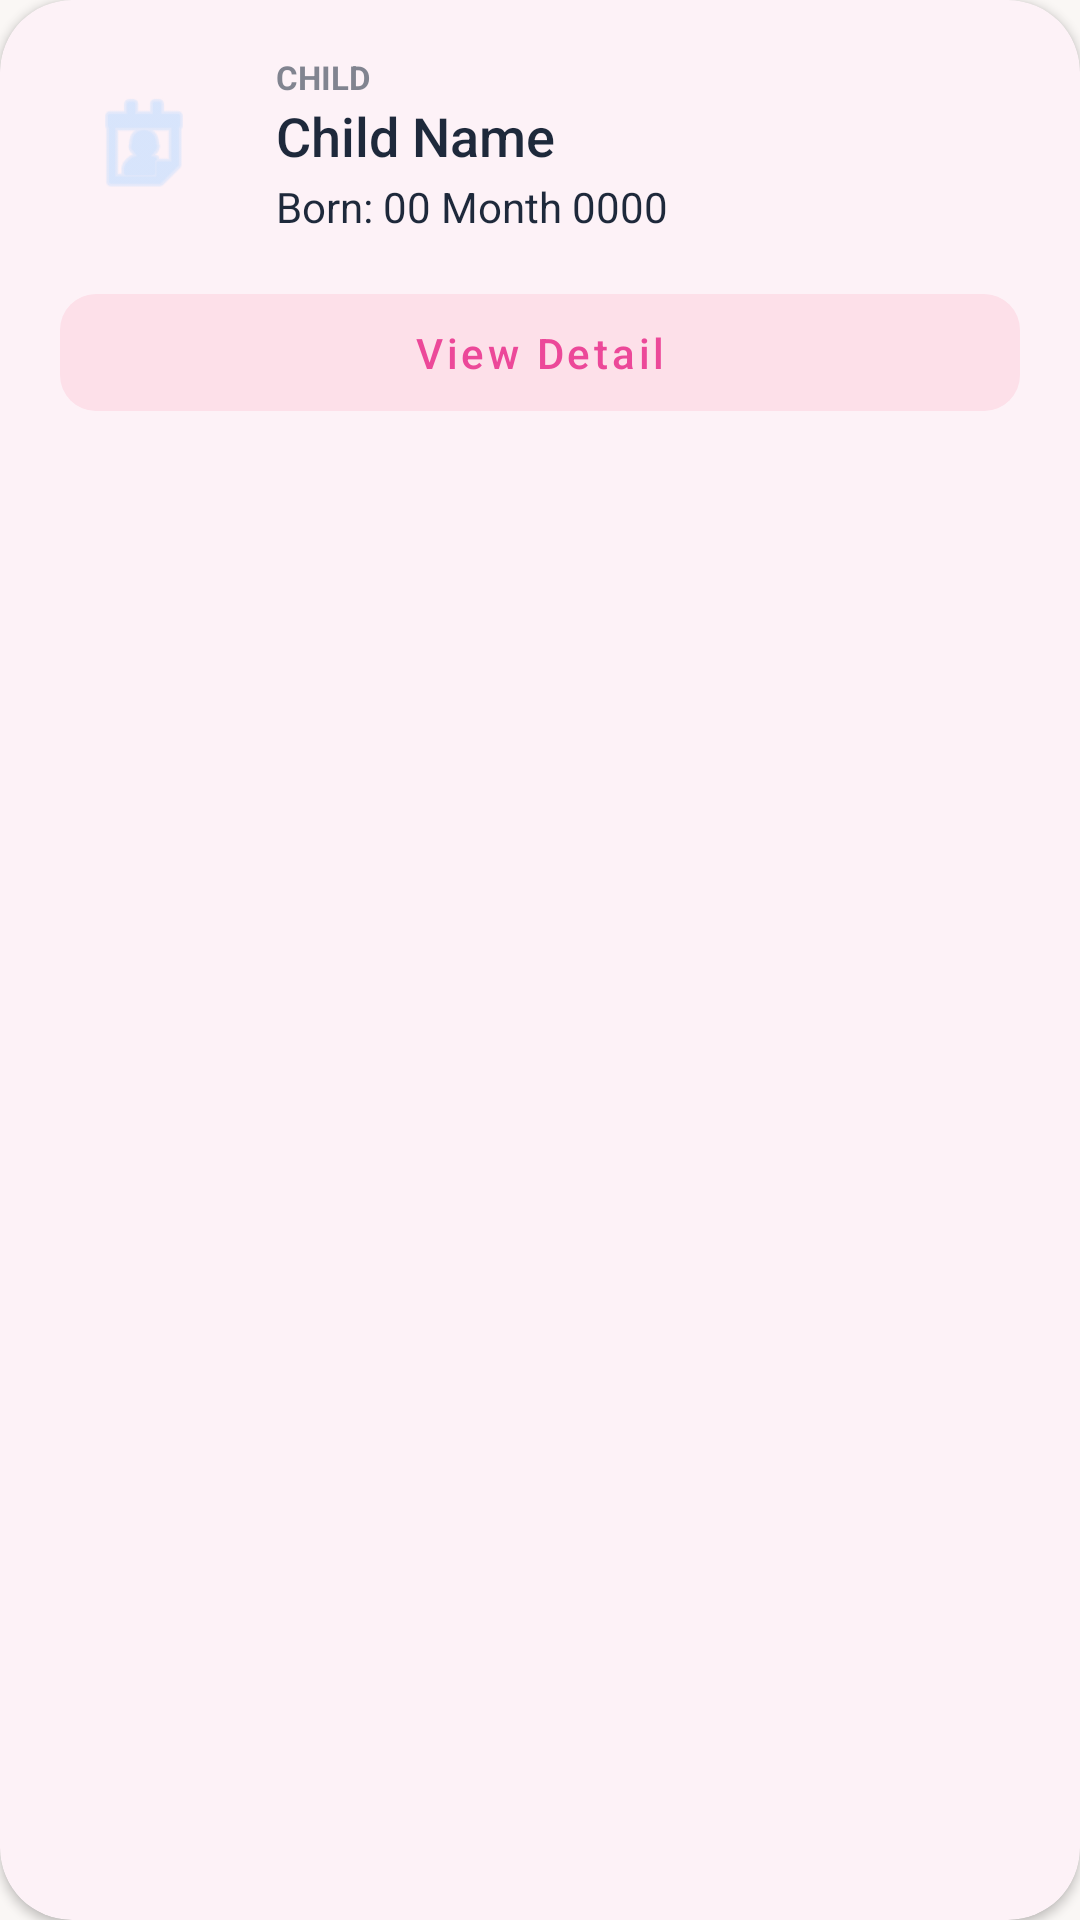

Icon bounding boxes for this 1080px x 1920px phone screenshot, format (x1,y1,x2,y2):
calendar: (107,101,181,185)
